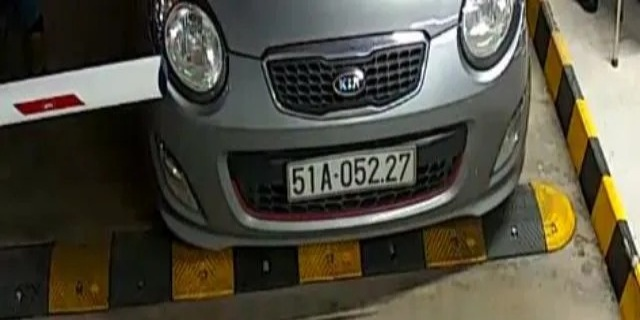bien_so: (290, 152, 413, 193)
